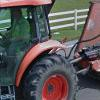Tractor: (8, 20, 87, 100)
